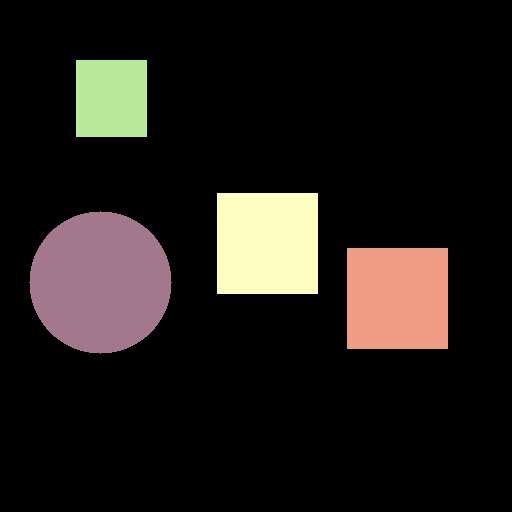circle: (29, 211, 171, 353)
square: (347, 248, 447, 348), (217, 193, 317, 293), (76, 60, 146, 136)
